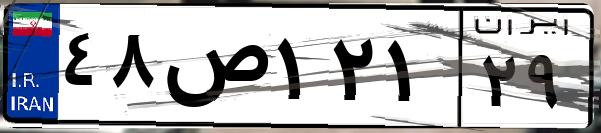1: (270, 28, 330, 110), (385, 28, 445, 110)
2: (330, 28, 385, 110), (475, 38, 525, 113)
4: (57, 26, 110, 100)
8: (110, 28, 158, 98)
9: (525, 38, 570, 115)
ص: (158, 20, 270, 120)
